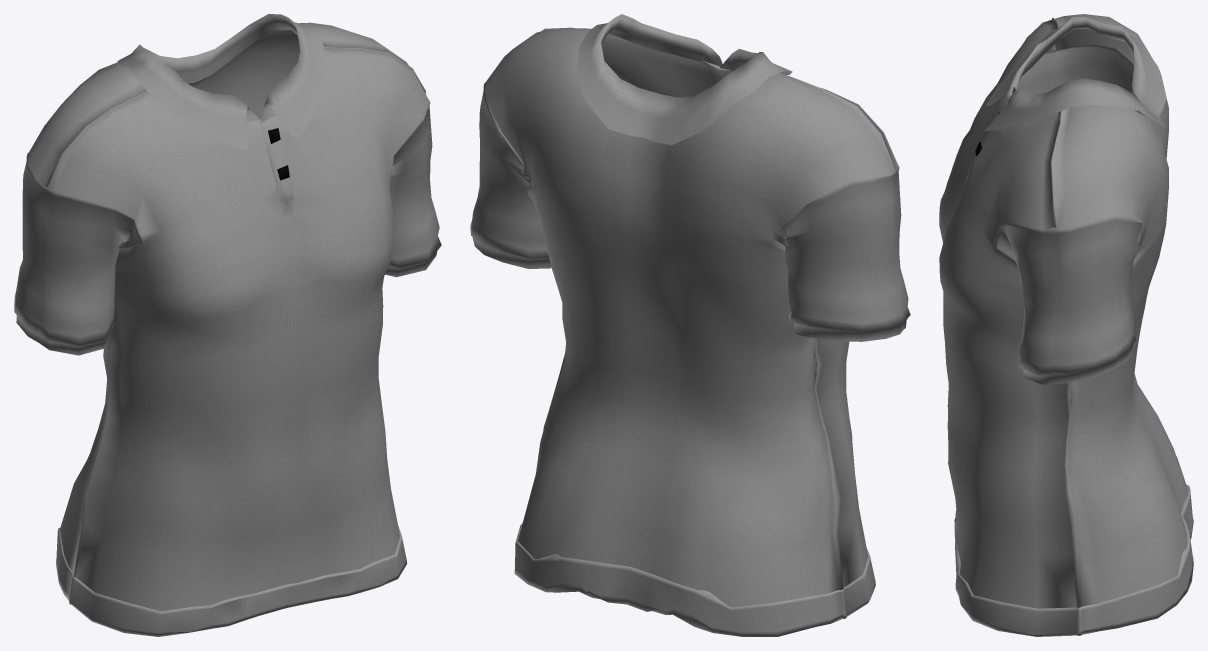
The model's file is top_polo.gltf.
The picture shows the model from 3 angles, left to right: view 1: azimuth 30°, elevation 25°; view 2: azimuth 150°, elevation 25°; view 3: azimuth 270°, elevation 25°; orthographic projection. The views are drawn at different scales.
Visible parts, largest first — view 1: top_polo; view 2: top_polo; view 3: top_polo.
Part boxes in pixels (box(x1,y1,x2,y2)): top_polo: box(14, 14, 441, 636); top_polo: box(470, 14, 910, 636); top_polo: box(939, 14, 1193, 636).
Size of the model in its own units: 0.4919 by 0.6123 by 0.2729.
Materials: 1 (1 with a texture image).
